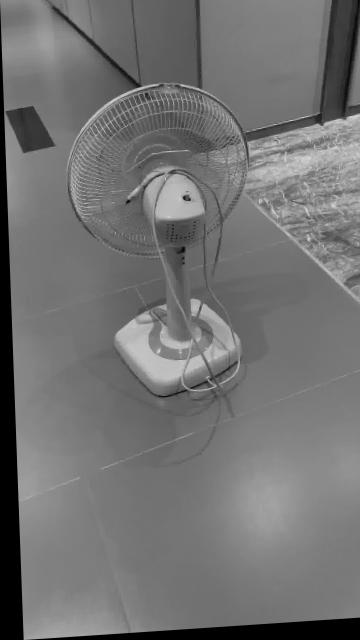Fan: (64, 85, 248, 401)
